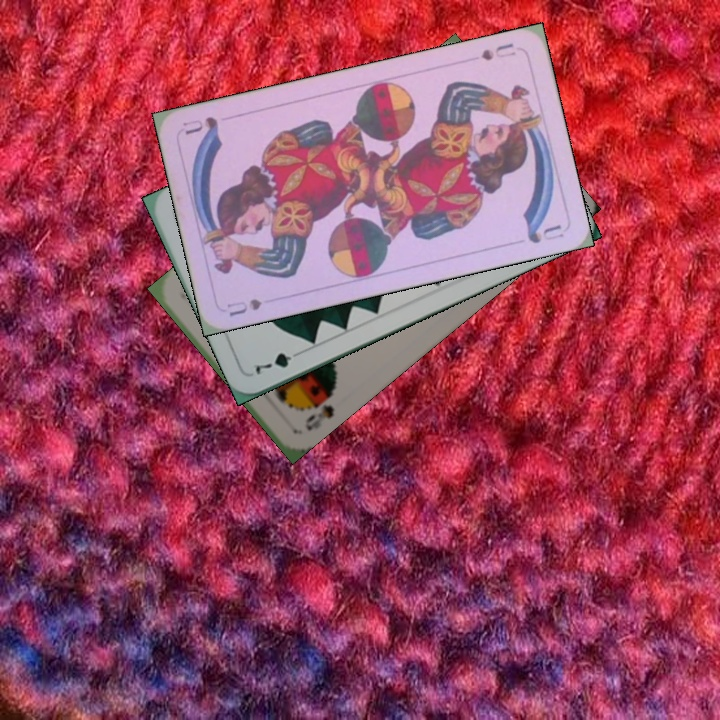G7: (250, 346, 306, 378)
SO: (300, 400, 337, 434)
SU: (222, 294, 264, 319), (477, 39, 518, 63)
